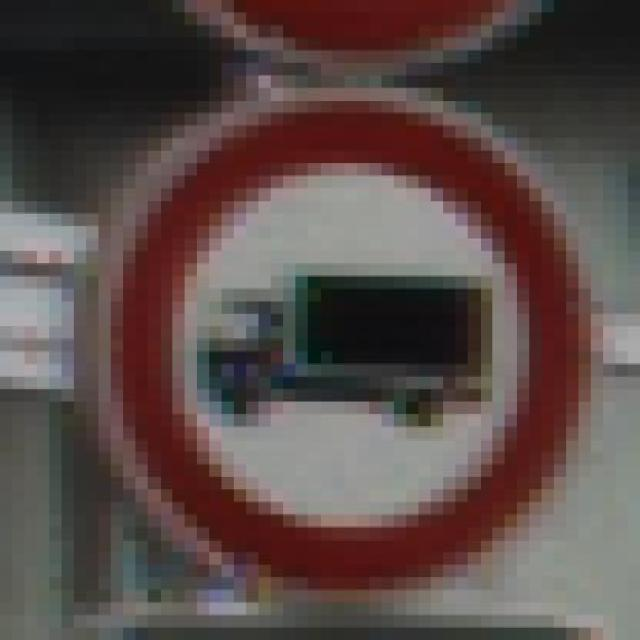Truck traffic is prohibited: (74, 62, 603, 590)
